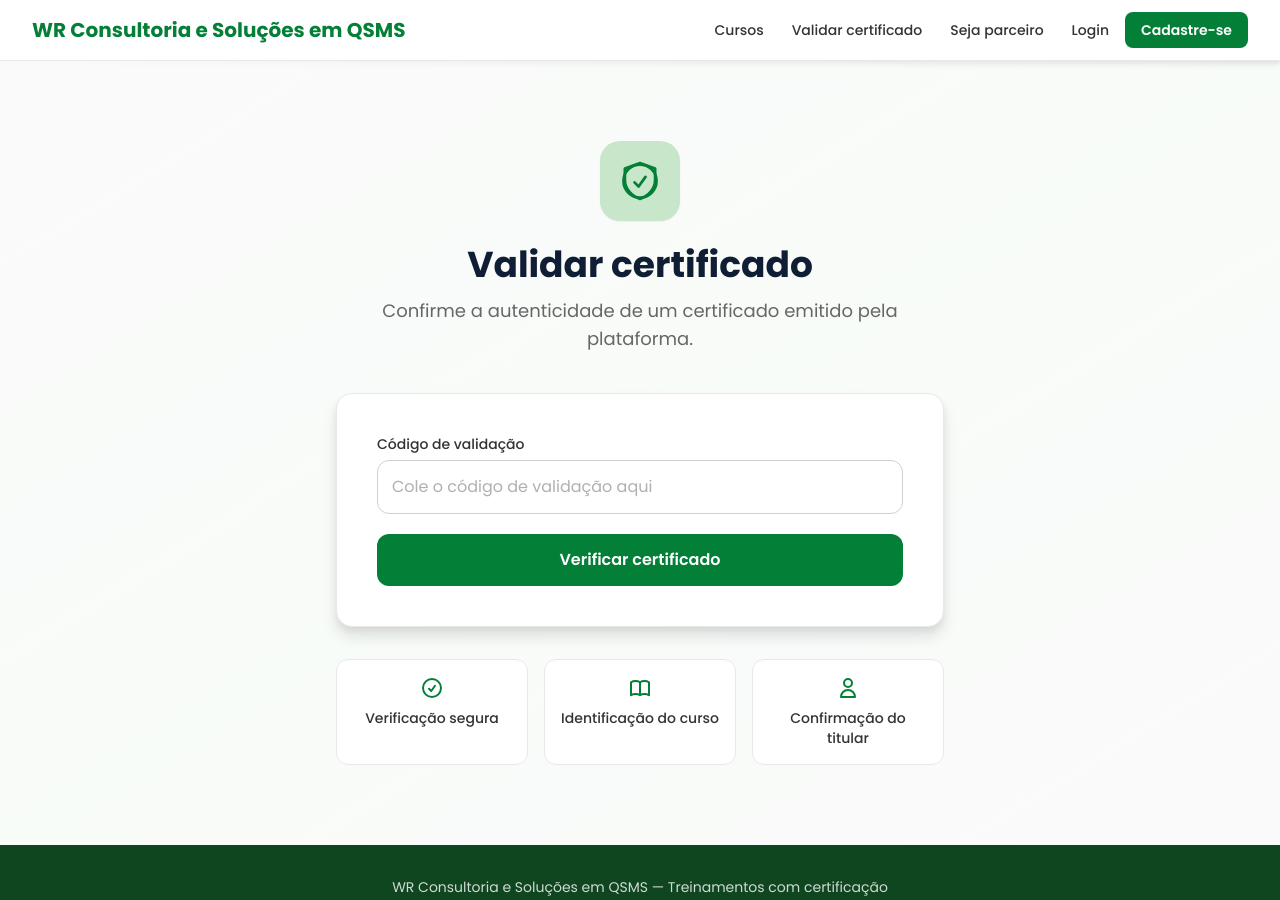
ValidateCertificate › shows valid certificate state on success
Type "VALID-CODE" into the field with test id "validate-code-input".
click(640, 487); type("VALID-CODE")  # box [377,460,903,514]
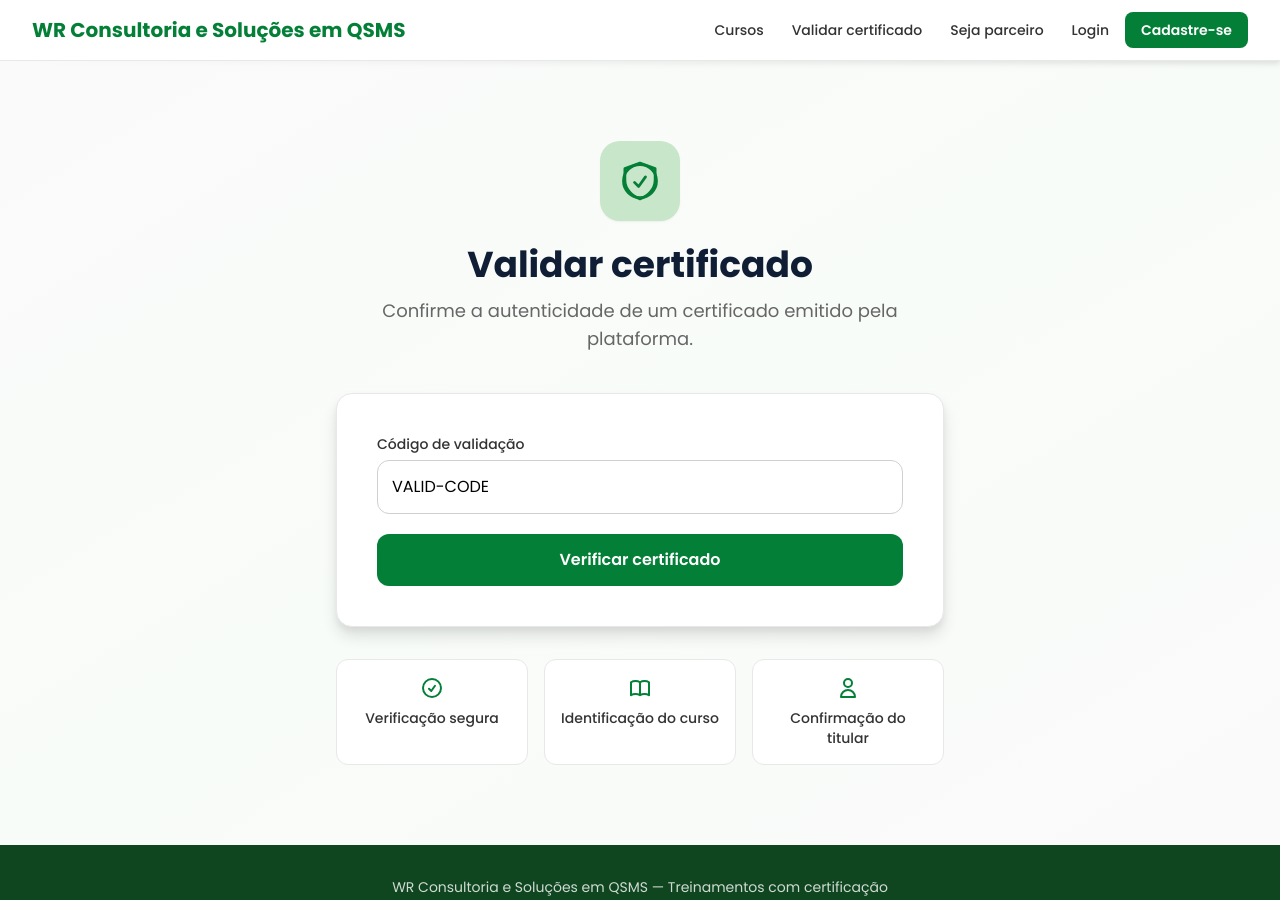
Submit the form, box [377,434,903,586]
(page scrolled)
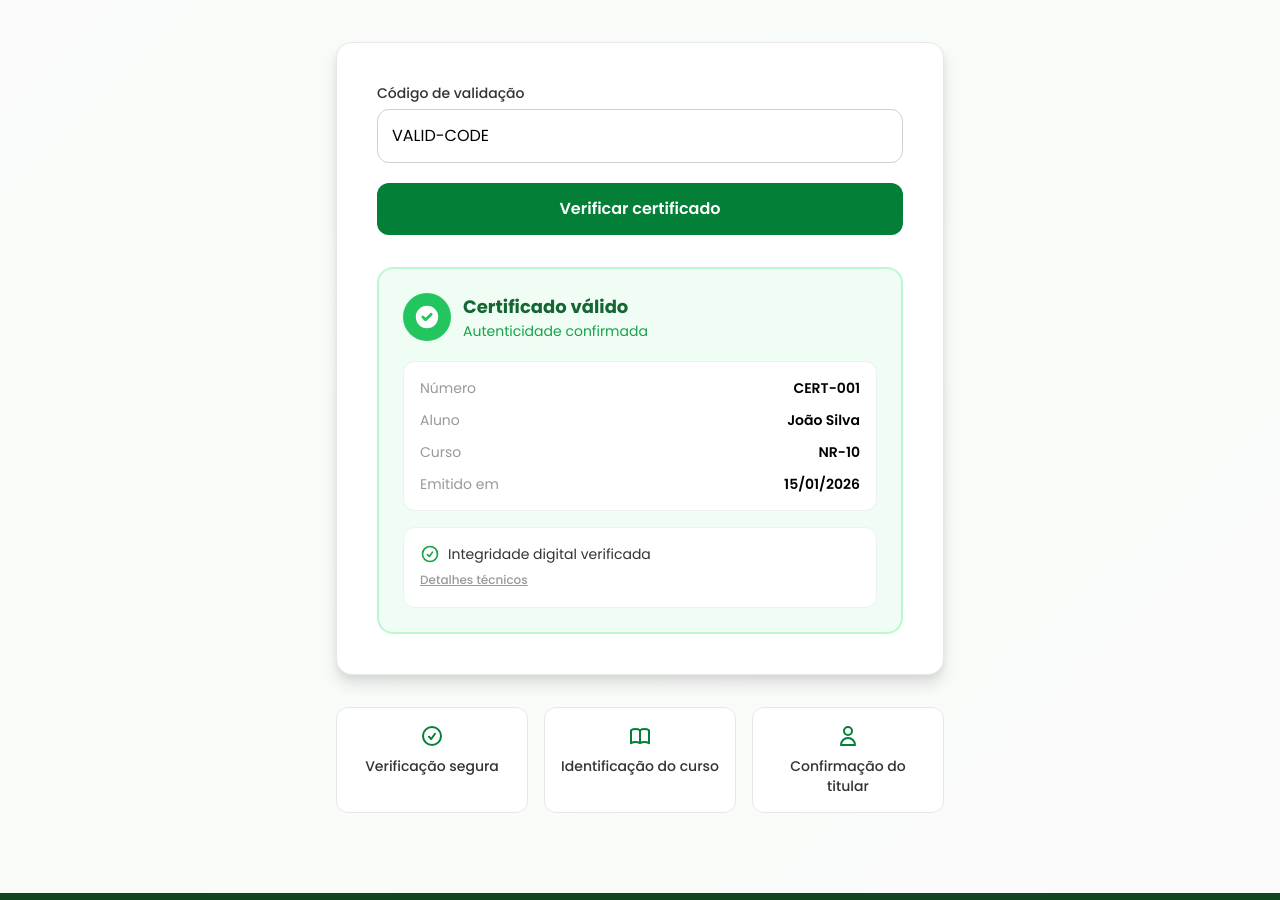
Result: the element with test id "validate-valid" is shown at [377,267,903,634]
Result: the text "Certificado válido" is shown at [463,293,648,321]
Result: the text "João Silva" is shown at [787,410,860,430]
